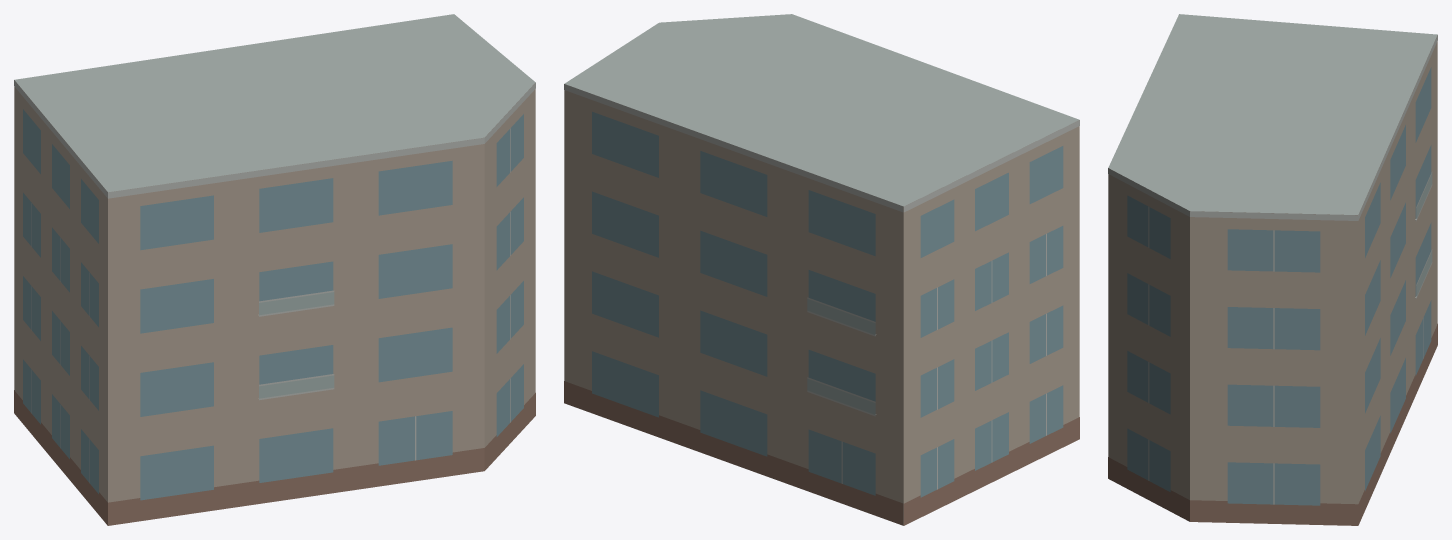
Rendered from survey-upis-32529710.glb.
The picture shows the model from 3 angles, left to right: view 1: azimuth 30°, elevation 25°; view 2: azimuth 150°, elevation 25°; view 3: azimuth 270°, elevation 25°; orthographic projection. The views are drawn at different scales.
Parts seen in each view (by area): view 1: survey-upis-32529710.tmp; view 2: survey-upis-32529710.tmp; view 3: survey-upis-32529710.tmp.
Part boxes in pixels (x1=…): survey-upis-32529710.tmp: x1=14, y1=14, x2=535, y2=525; survey-upis-32529710.tmp: x1=564, y1=14, x2=1079, y2=525; survey-upis-32529710.tmp: x1=1108, y1=14, x2=1437, y2=525.
Bounding box in the file's own units: 17.78 × 12.8 × 12.31.
